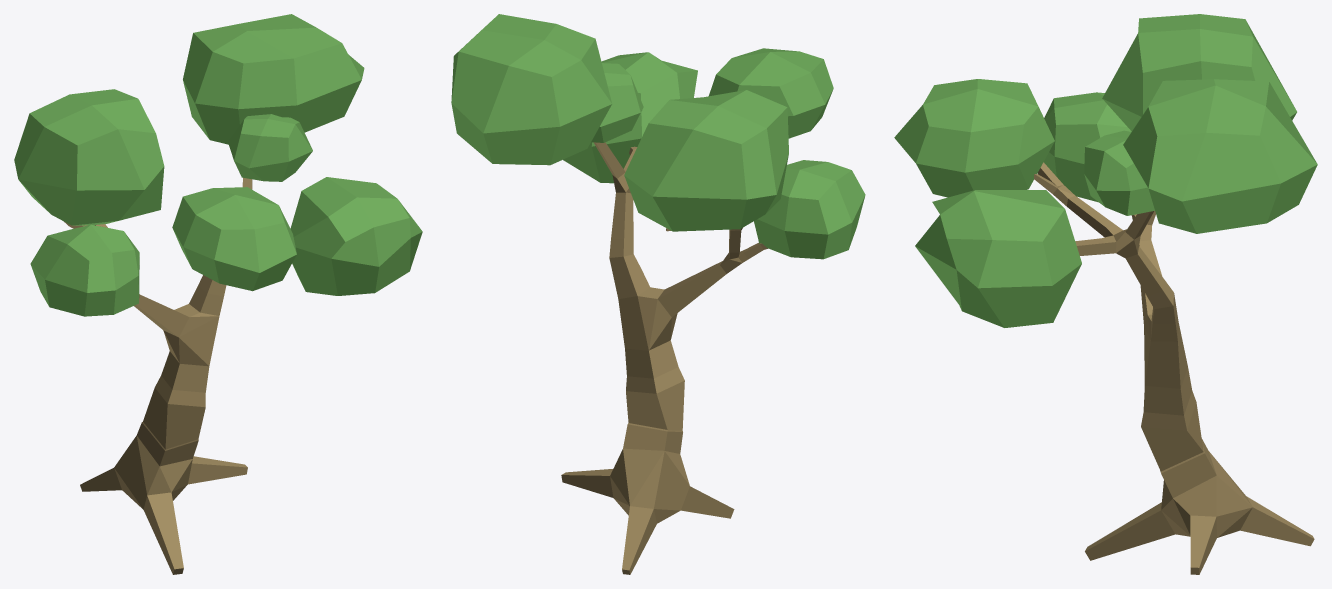
The model's file is AveraTree3.fbx.
3 views of the same model, side by side, from view 1: azimuth 30°, elevation 25°; view 2: azimuth 150°, elevation 25°; view 3: azimuth 270°, elevation 25° (orthographic). The views are drawn at different scales.
Parts seen in each view (by area): view 1: Cube.004, Cube, Cube.005, Cube.002, Cube.003, Cube.001, Cube.006; view 2: Cube, Cube.004, Cube.005, Cube.001, Cube.003, Cube.002, Cube.006; view 3: Cube, Cube.004, Cube.002, Cube.003, Cube.005, Cube.001, Cube.006.
Part boxes in pixels (<box>): Cube.004: <box>183,14,364,144</box>; Cube: <box>64,177,252,574</box>; Cube.005: <box>14,89,164,225</box>; Cube.002: <box>290,177,422,295</box>; Cube.003: <box>172,187,296,291</box>; Cube.001: <box>30,224,139,316</box>; Cube.006: <box>227,114,312,181</box>; Cube: <box>561,142,767,574</box>; Cube.004: <box>451,14,611,165</box>; Cube.005: <box>624,90,788,231</box>; Cube.001: <box>754,160,865,259</box>; Cube.003: <box>709,48,833,138</box>; Cube.002: <box>563,52,697,183</box>; Cube.006: <box>591,63,643,142</box>; Cube: <box>1034,162,1314,574</box>; Cube.004: <box>1123,79,1317,233</box>; Cube.002: <box>915,190,1081,327</box>; Cube.003: <box>894,79,1054,197</box>; Cube.005: <box>1102,14,1296,131</box>; Cube.001: <box>1044,92,1131,202</box>; Cube.006: <box>1084,130,1154,215</box>.
Size of the model in its own units: 1833 by 2346 by 1662.
